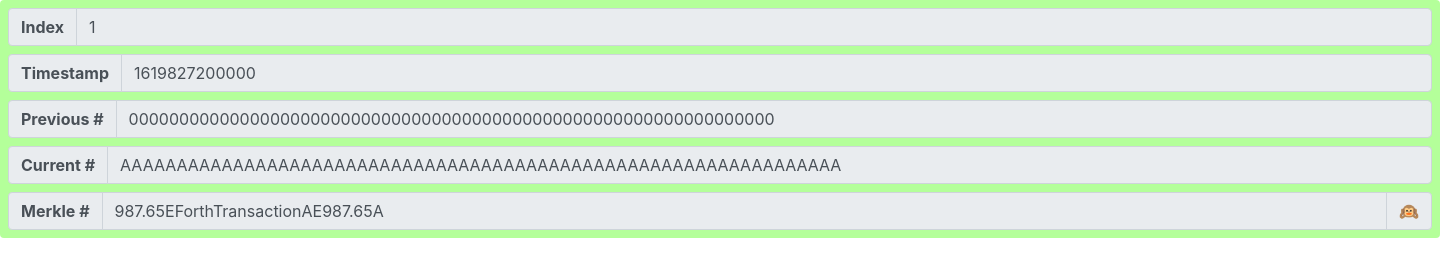
it: in blockchain mode › handleViewTransactions › changes emoji when show transactions is clicked
Click the text "🙉": x=1409, y=211 [1386,192,1432,230]
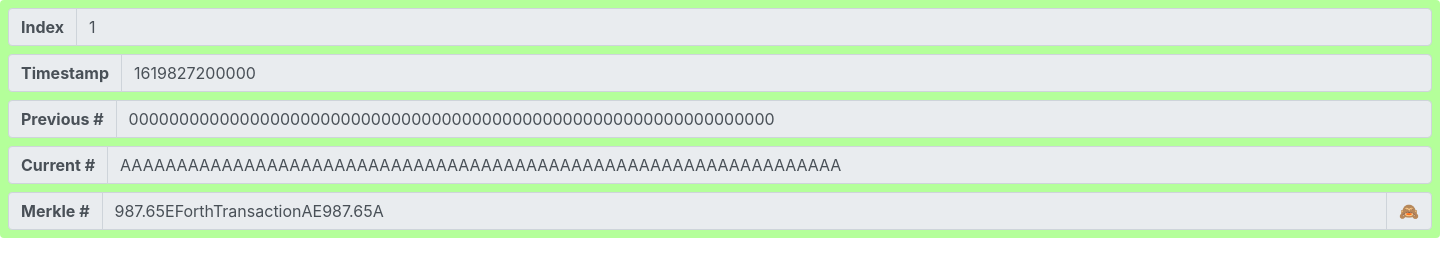
Expected: the text "🙈" is shown, [1386,192,1432,230]
Expected: the text "🙉" is gone
